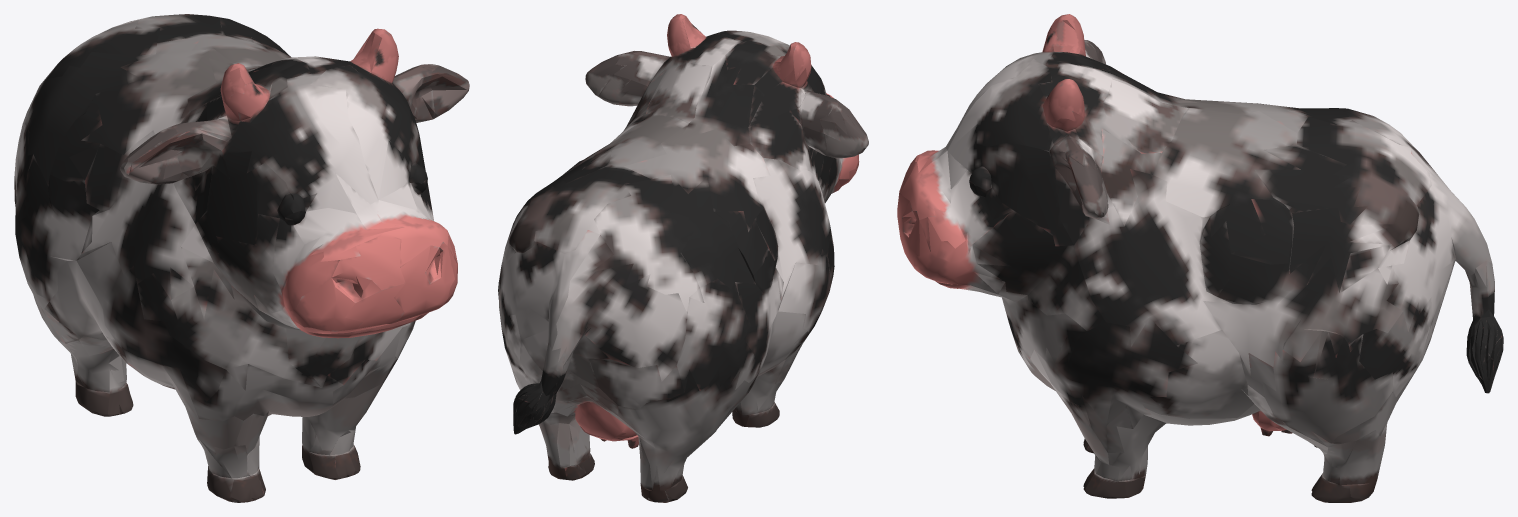
File: cow.glb
3 views of the same model, side by side, from view 1: azimuth 30°, elevation 25°; view 2: azimuth 150°, elevation 25°; view 3: azimuth 270°, elevation 25° (orthographic). The views are drawn at different scales.
Size of the model in its own units: 1.17 by 1.46 by 1.9.
1 material, 1 textured.
